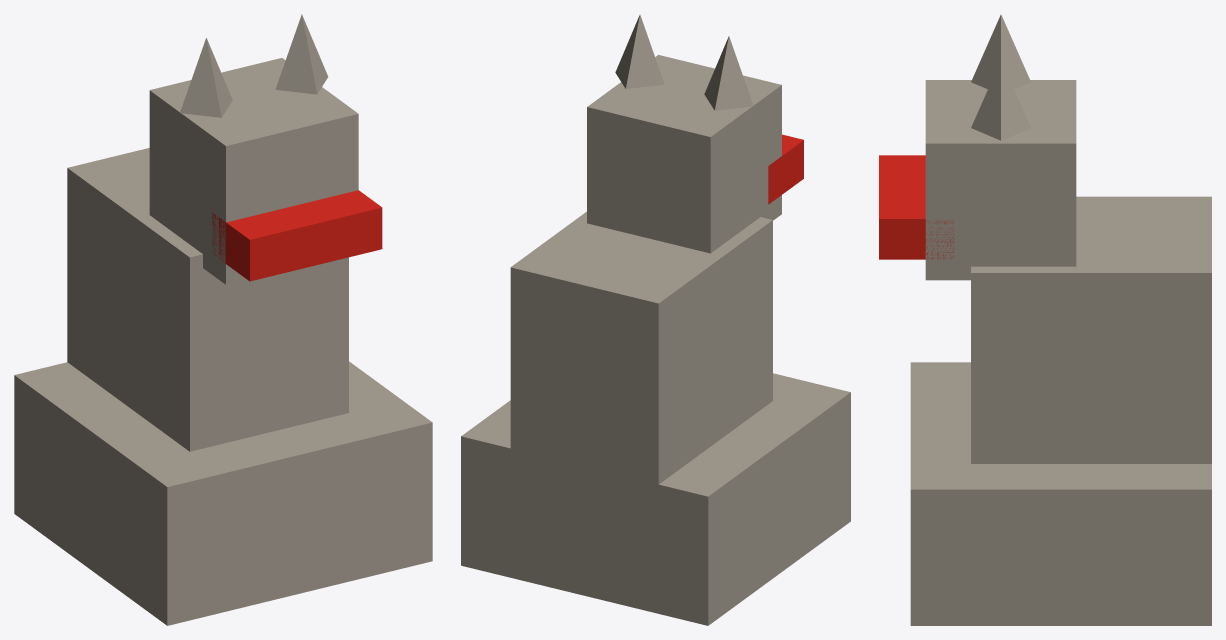
File: komainu.glb
3 renders of one model, left to right at view 1: azimuth 30°, elevation 25°; view 2: azimuth 150°, elevation 25°; view 3: azimuth 270°, elevation 25°, orthographic. The views are drawn at different scales.
Parts seen in each view (by area): view 1: komainu; view 2: komainu; view 3: komainu.
Part boxes in pixels (x1,y1,x2,y2): komainu: (14, 14, 432, 625); komainu: (461, 14, 850, 625); komainu: (879, 14, 1211, 625).
Bounding box in the file's own units: 1 × 1.92 × 1.11.
